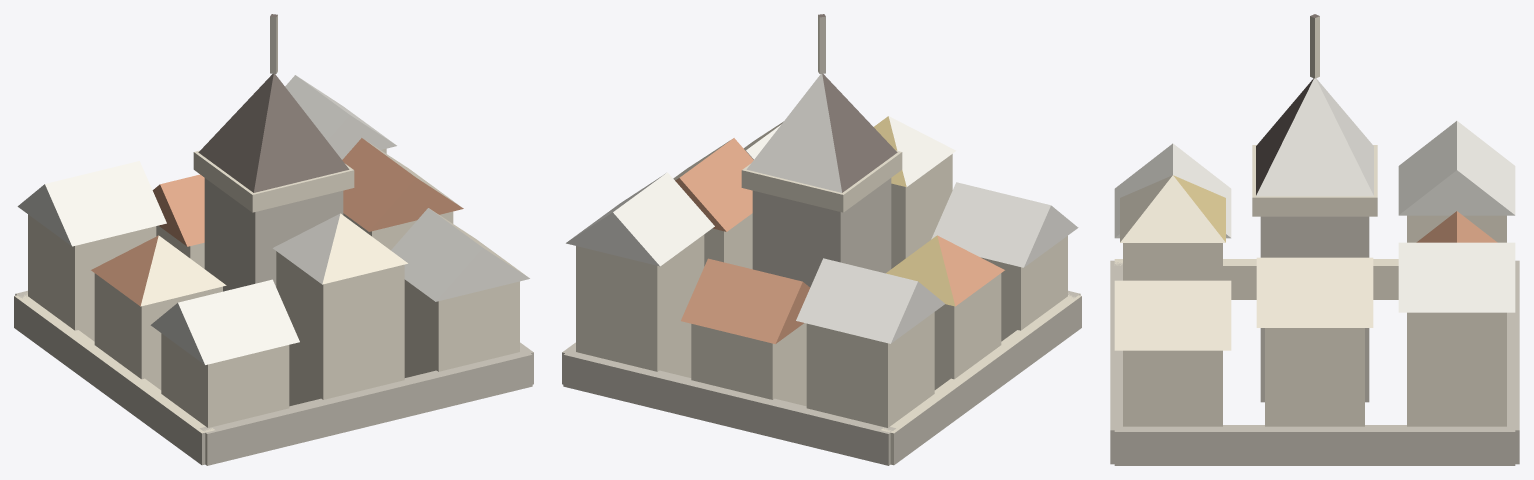
File: city.glb
3 views of the same model, side by side, from view 1: azimuth 30°, elevation 25°; view 2: azimuth 150°, elevation 25°; view 3: azimuth 270°, elevation 25° (orthographic). The views are drawn at different scales.
Visible parts, largest first — view 1: city; view 2: city; view 3: city.
Part boxes in pixels (bbox=[...]): city: bbox=[14, 14, 533, 465]; city: bbox=[562, 14, 1081, 465]; city: bbox=[1110, 14, 1519, 465].
Bounding box in the file's own units: 0.98 × 0.96 × 0.98.
